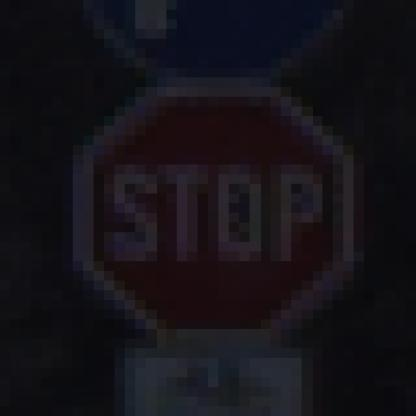Stop: (75, 86, 357, 344)
